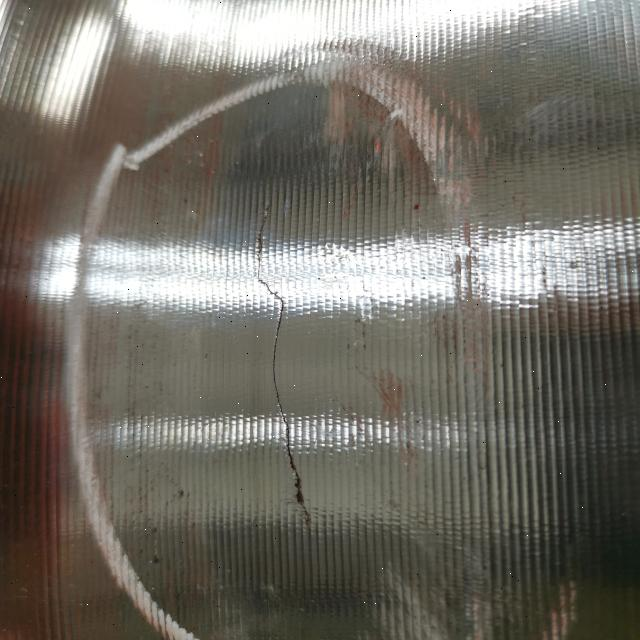fatigue crack: (213, 185, 356, 534)
